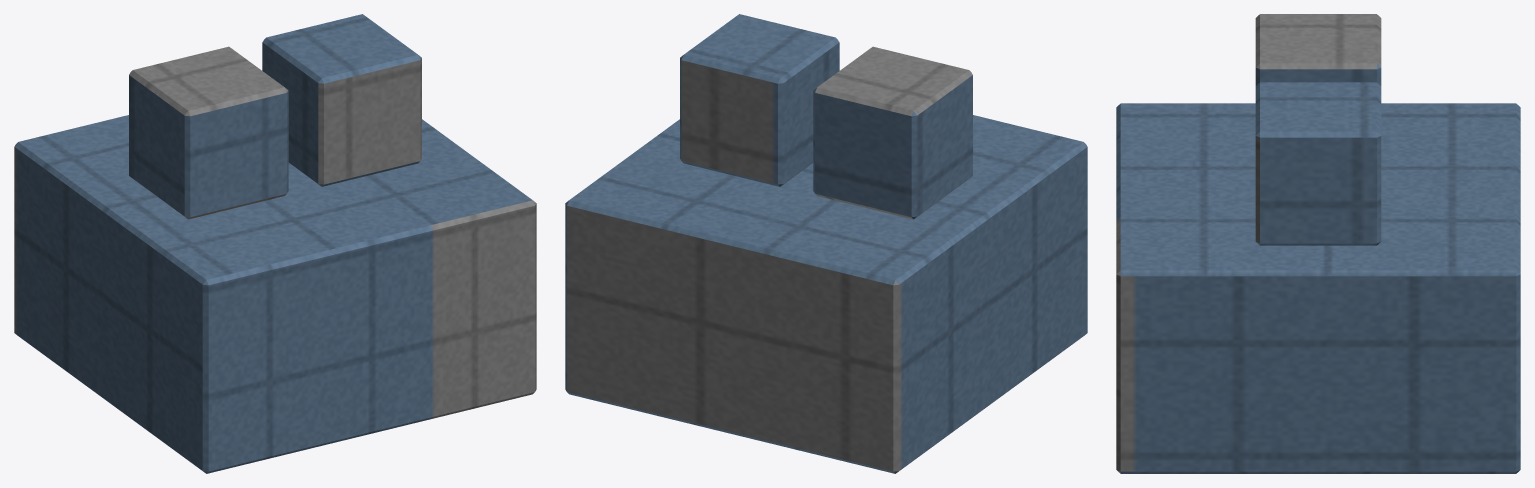
The model's file is assembler.glb.
3 renders of one model, left to right at view 1: azimuth 30°, elevation 25°; view 2: azimuth 150°, elevation 25°; view 3: azimuth 270°, elevation 25°, orthographic. The views are drawn at different scales.
Visible parts, largest first — view 1: assembler; view 2: assembler; view 3: assembler.
Boxes of the visible parts, x1=… form: assembler: x1=14, y1=14, x2=536, y2=473; assembler: x1=565, y1=14, x2=1087, y2=473; assembler: x1=1116, y1=14, x2=1520, y2=473.
Bounding box in the file's own units: 0.9 × 0.78 × 0.9.
Materials: 1 (1 with a texture image).
